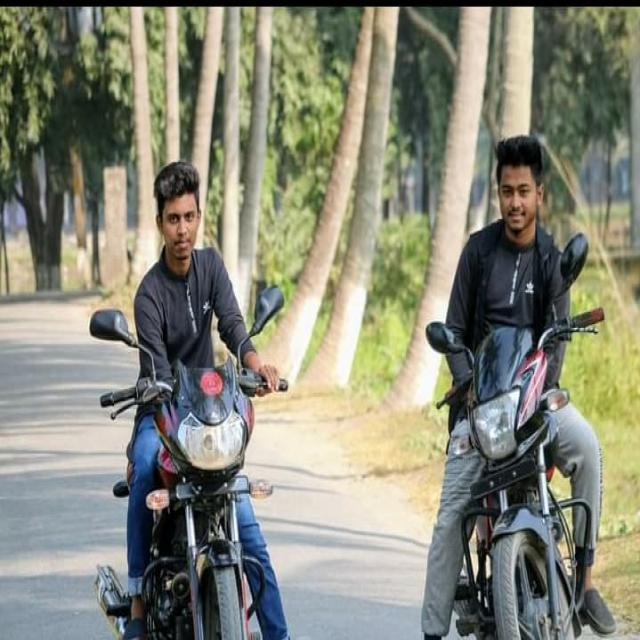No helmet: (487, 139, 558, 252), (154, 162, 209, 264)
